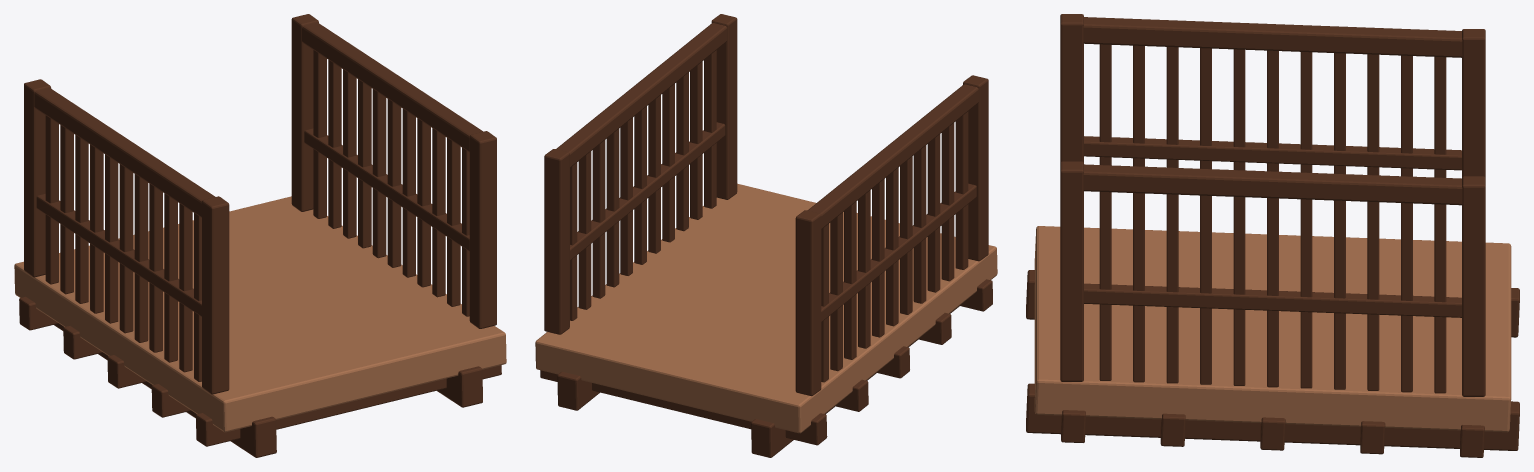
The model's file is SM_HACV7_UpperLandingConnector_ArchitecturalFix.fbx.
The picture shows the model from 3 angles, left to right: view 1: azimuth 30°, elevation 25°; view 2: azimuth 150°, elevation 25°; view 3: azimuth 270°, elevation 25°; orthographic projection. The views are drawn at different scales.
Visible parts, largest first — view 1: SM_HACV7_UpperLandingConnector; view 2: SM_HACV7_UpperLandingConnector; view 3: SM_HACV7_UpperLandingConnector.
Boxes of the visible parts, left/top/right/bottom form: SM_HACV7_UpperLandingConnector: left=14, top=14, right=506, bottom=457; SM_HACV7_UpperLandingConnector: left=535, top=14, right=997, bottom=457; SM_HACV7_UpperLandingConnector: left=1026, top=14, right=1519, bottom=457.
Size of what is drawn, in the model's own units: 178 by 228 by 151.
